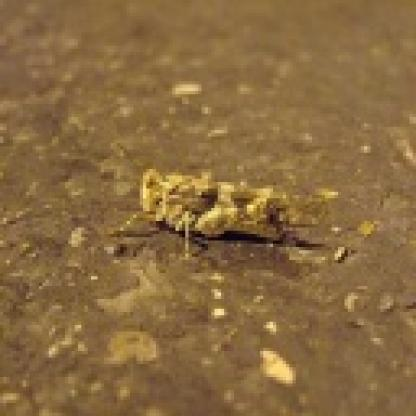grasshopper: (131, 161, 309, 249)
